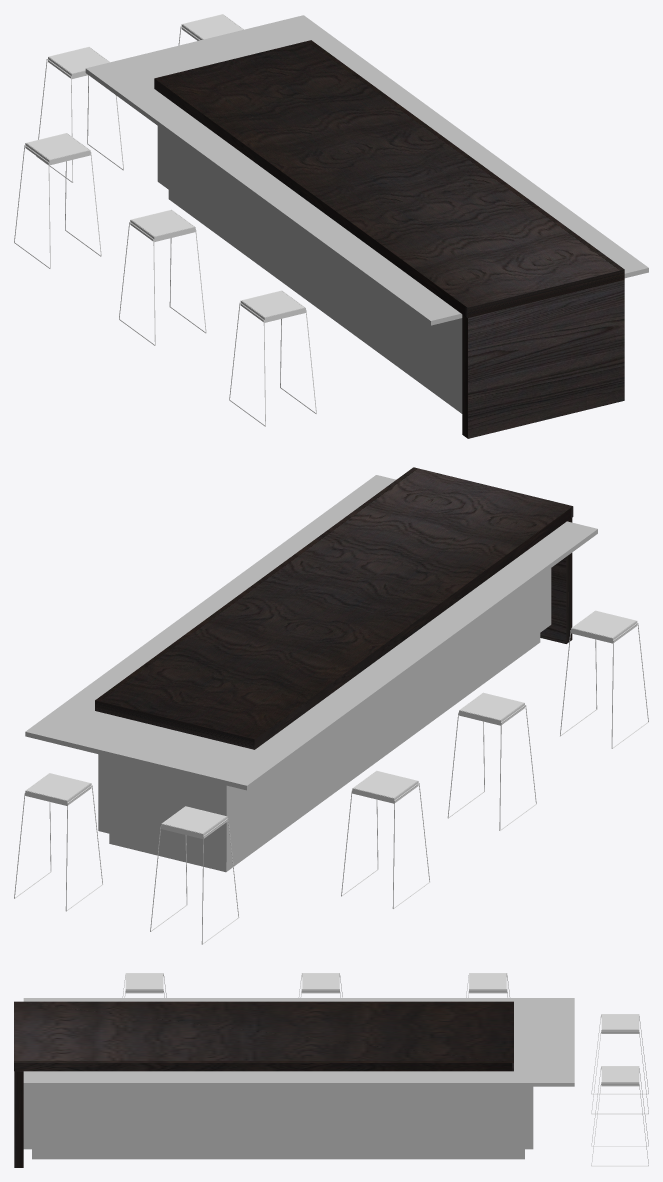
Rendered from kitchenV2.fbx.
3 views of the same model, one above another, from view 1: azimuth 30°, elevation 25°; view 2: azimuth 150°, elevation 25°; view 3: azimuth 270°, elevation 25° (orthographic). The views are drawn at different scales.
Parts seen in each view (by area): view 1: Cube.008, Cube.009, Cube.010, Cube.061, Cube.014, Cube.016, Cube.012, Cube.004, Cube.064; view 2: Cube.008, Cube.010, Cube.009, Cube.061, Cube.014, Cube.064, Cube.012, Cube.016, Cube.004; view 3: Cube.010, Cube.008, Cube.009, Cube.061, Cube.012, Cube.064, Cube.004, Cube.014, Cube.016, Plane.002, Plane.001.
Part boxes in pixels (box(x1,y1,x2,y2)): Cube.008: box(154, 40, 624, 317); Cube.009: box(85, 15, 648, 325); Cube.010: box(157, 126, 462, 413); Cube.061: box(462, 280, 624, 438); Cube.014: box(132, 210, 193, 236); Cube.016: box(242, 291, 304, 317); Cube.012: box(27, 133, 88, 159); Cube.004: box(49, 47, 109, 73); Cube.064: box(183, 14, 243, 39); Cube.008: box(95, 467, 573, 749); Cube.010: box(98, 568, 551, 872); Cube.009: box(25, 475, 597, 790); Cube.061: box(540, 518, 572, 643); Cube.014: box(460, 693, 523, 720); Cube.064: box(26, 773, 89, 800); Cube.012: box(353, 771, 416, 798); Cube.016: box(572, 611, 635, 637); Cube.004: box(163, 807, 225, 833); Cube.010: box(23, 1086, 533, 1159); Cube.008: box(14, 1001, 513, 1071); Cube.009: box(23, 998, 574, 1086); Cube.061: box(14, 1071, 23, 1167); Cube.012: box(469, 973, 506, 988); Cube.064: box(602, 1066, 638, 1081); Cube.004: box(602, 1014, 638, 1029); Cube.014: box(302, 973, 338, 988); Cube.016: box(126, 973, 162, 988); Plane.002: box(591, 1084, 648, 1166); Plane.001: box(591, 1032, 648, 1114).
Bounding box in the file's own units: 341 × 132 × 721.
